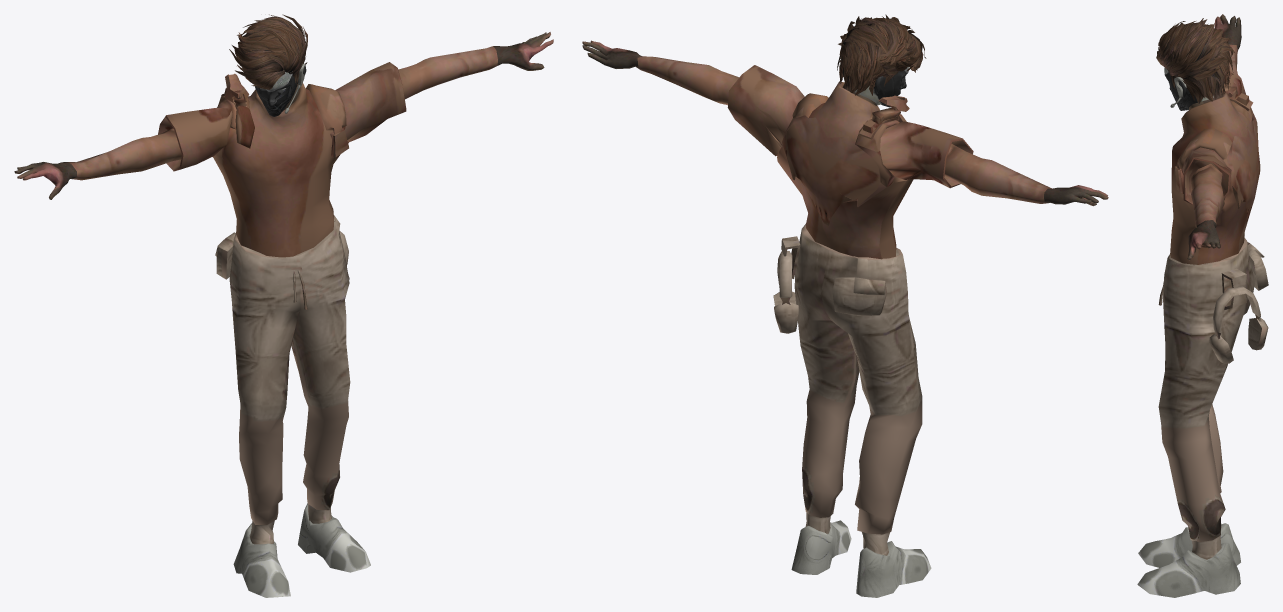
File: Wolfrah[Blender-Render][Mouthed].fbx
The picture shows the model from 3 angles, left to right: view 1: azimuth 30°, elevation 25°; view 2: azimuth 150°, elevation 25°; view 3: azimuth 270°, elevation 25°; orthographic projection. The views are drawn at different scales.
Parts seen in each view (by area): view 1: wolfrah_wolfrahmesh; view 2: wolfrah_wolfrahmesh; view 3: wolfrah_wolfrahmesh.
Boxes of the visible parts, x1,y1,x2,y2 form: wolfrah_wolfrahmesh: (14,14,553,597); wolfrah_wolfrahmesh: (582,14,1108,597); wolfrah_wolfrahmesh: (1137,14,1268,597).
Bounding box in the file's own units: 641 × 649 × 142.
